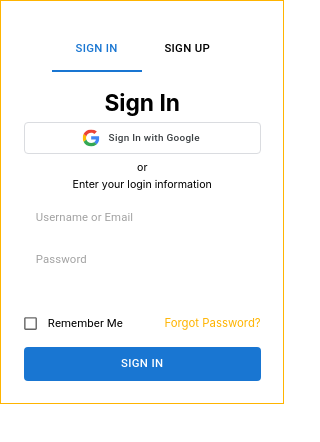
Scenario: Auth Component › changes the active tab on click
This screenshot has width=320, height=442.
// Click the "Sign Up" tab and check if it becomes active.
What coordinates should you click on to do the following:
click the tab "Sign Up"
I would click on:
 (187, 48)
Its box is left=142, top=24, right=233, bottom=72.
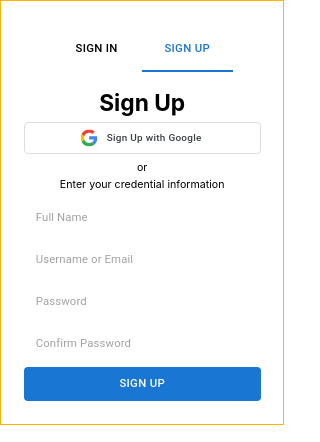
expect the text "Enter your credential information" is shown: met, box left=60, top=176, right=224, bottom=193
// Click the "Sign In" tab and check if it becomes active.
What coordinates should you click on to do the following:
click the tab "Sign In"
I would click on:
 (97, 48)
Its box is left=52, top=24, right=142, bottom=72.
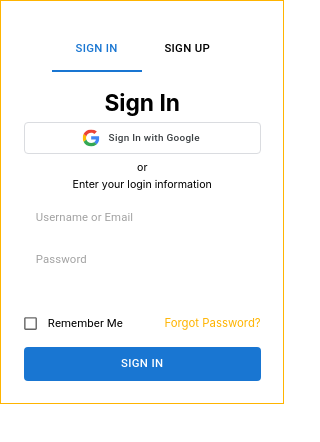
expect the text "Enter your login information" is shown: met, box left=72, top=176, right=212, bottom=193
